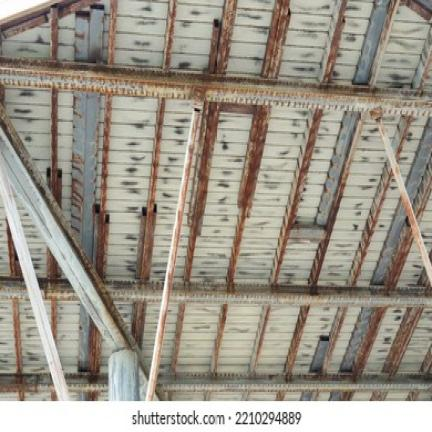besi_tidak_karat: (0, 107, 146, 374), (0, 133, 69, 401), (109, 349, 139, 401)
karat: (0, 58, 431, 117), (146, 96, 202, 401), (228, 105, 271, 285), (184, 104, 221, 280), (139, 99, 166, 280), (0, 0, 98, 38), (97, 95, 112, 279), (262, 0, 290, 78), (215, 0, 237, 75), (50, 7, 58, 60)
